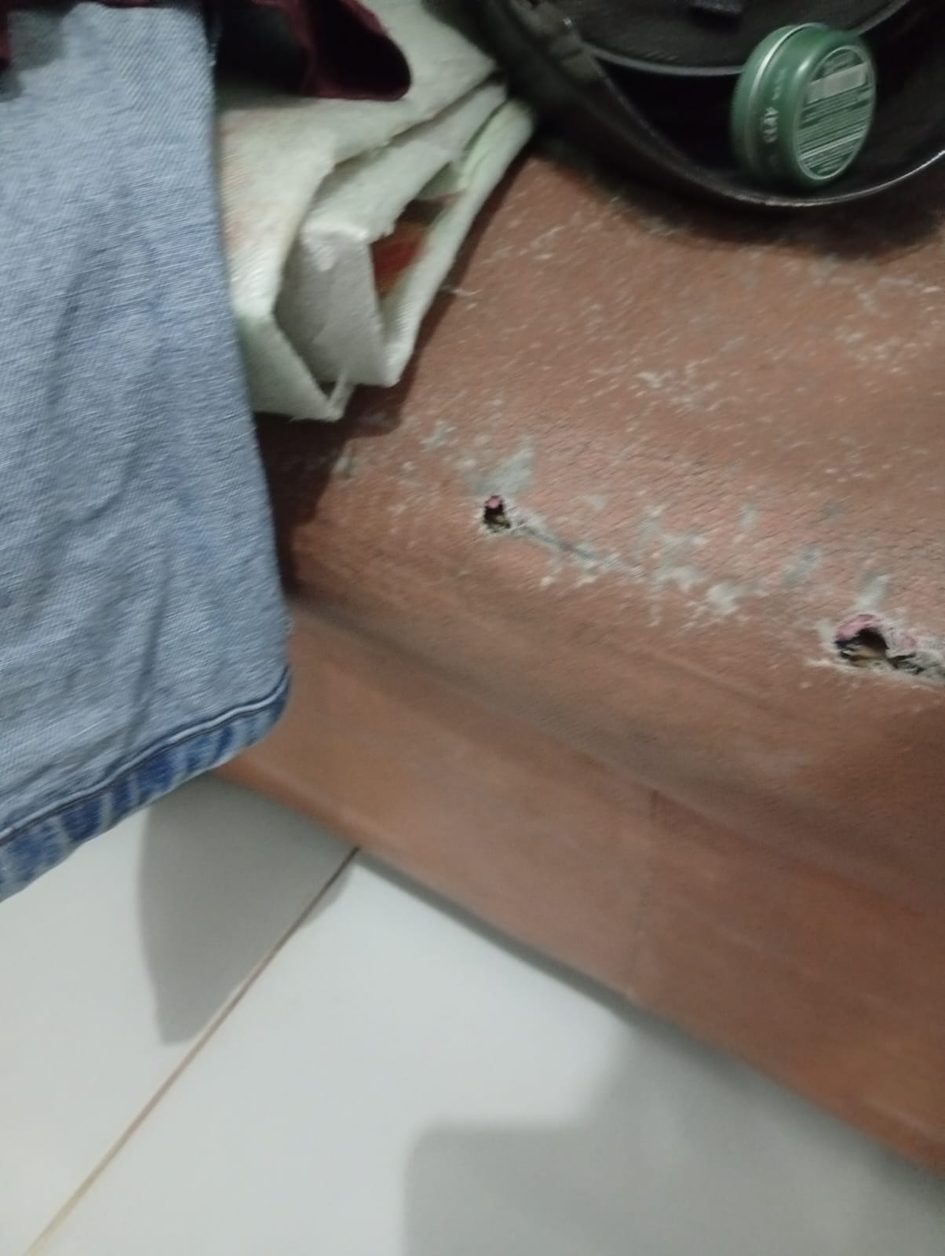Minyak_Rambut: (702, 10, 902, 208)
